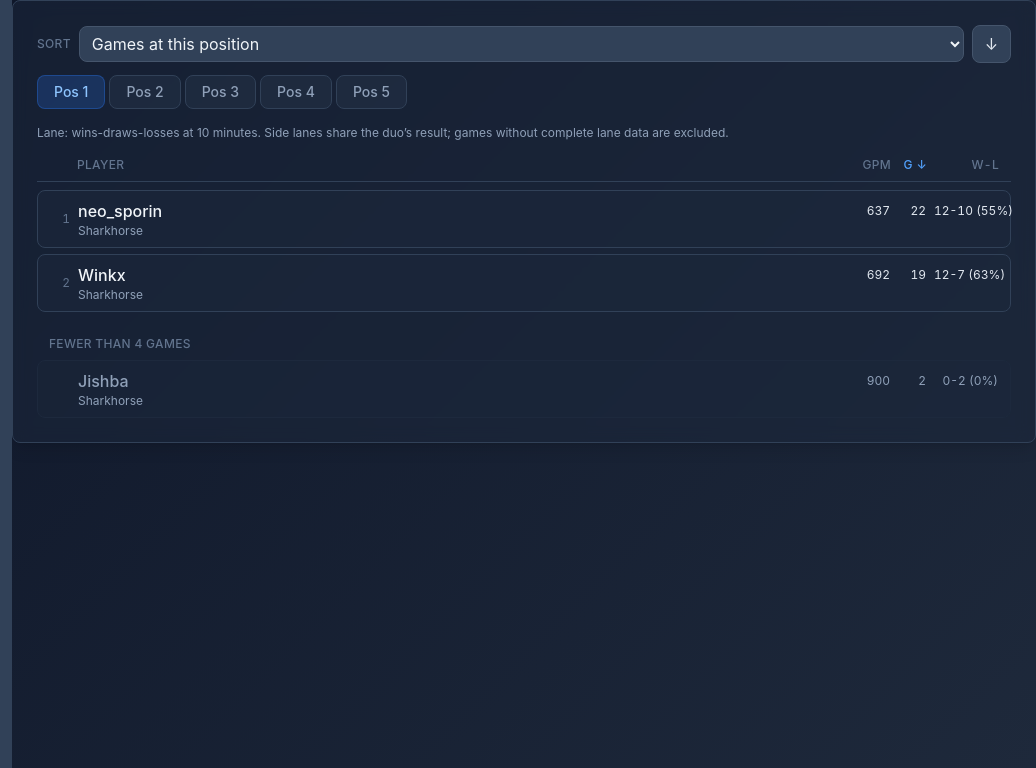
it: DivisionPlayers › puts the sort in the URL so a board can be pasted to someone
The width and height of the screenshot is (1036, 768).
Expected: the text "neo_sporin" is shown, [78, 201, 162, 221]
Click the button titled "Gold per minute" at (871, 165), box [851, 157, 891, 173]
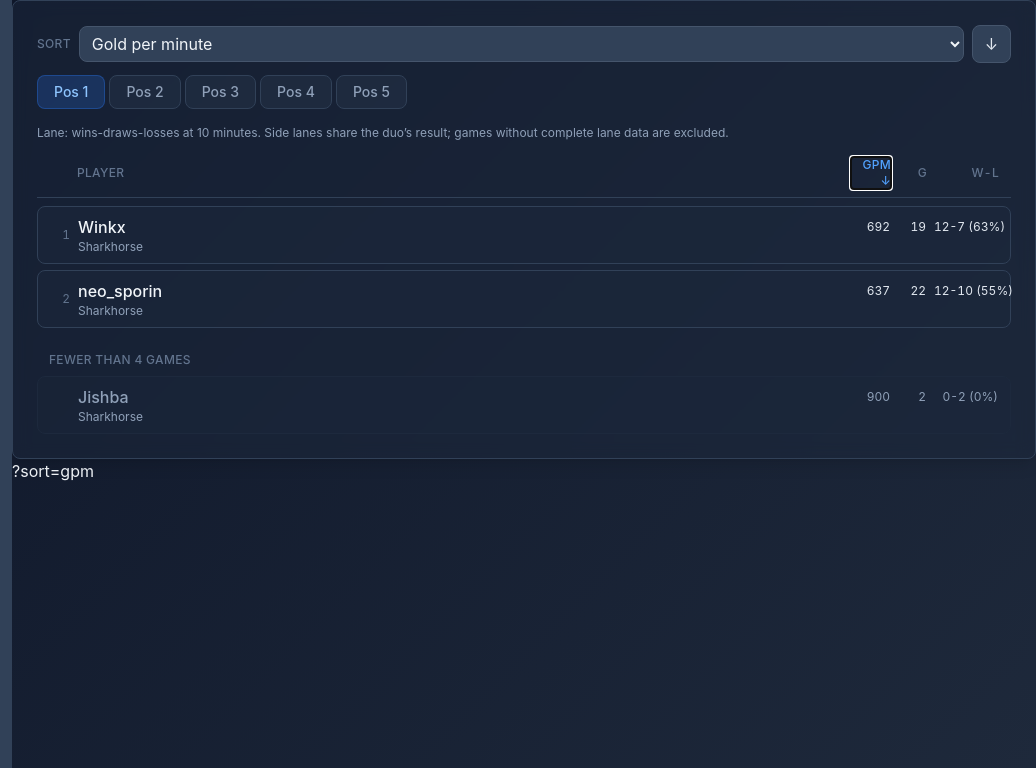
Result: the text with test id "search" reads "?sort=gpm" at [12, 461, 94, 481]
